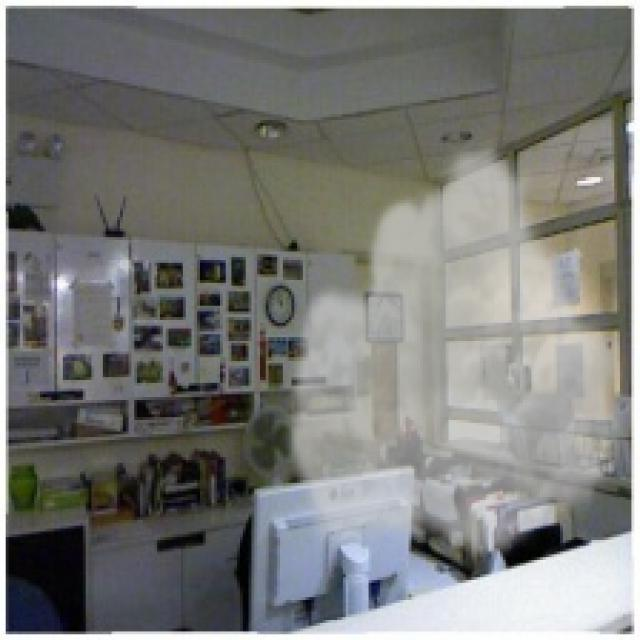Smoke: (280, 137, 634, 563)
